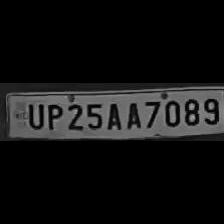0: (160, 96, 180, 128)
2: (63, 100, 83, 132)
5: (83, 99, 103, 130)
7: (140, 97, 160, 129)
8: (182, 96, 200, 128)
9: (200, 96, 220, 127)
A: (104, 99, 124, 130), (122, 99, 140, 129)
P: (43, 102, 63, 131)
U: (24, 100, 44, 130)
